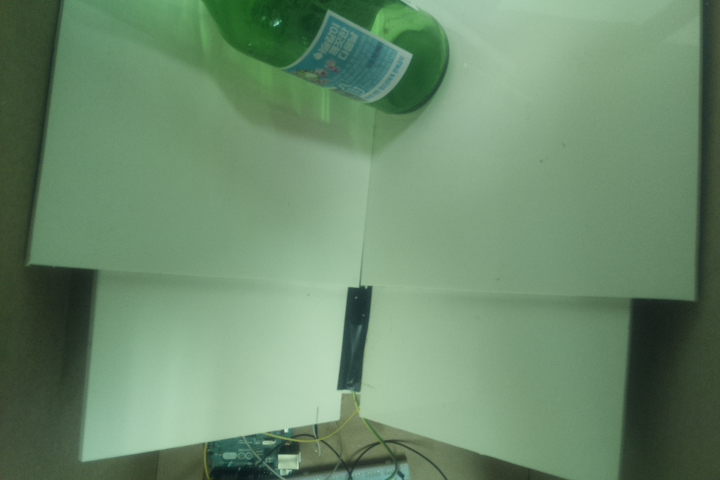soju: (193, 1, 453, 117)
